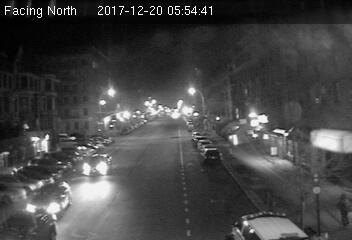car: (25, 180, 73, 219), (80, 152, 112, 175)
police: (227, 205, 311, 240)
